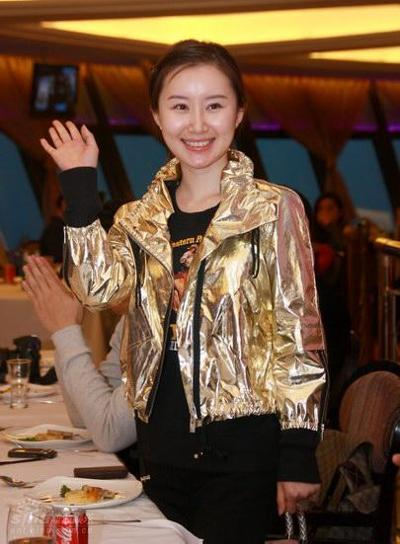person: (40, 40, 327, 544)
